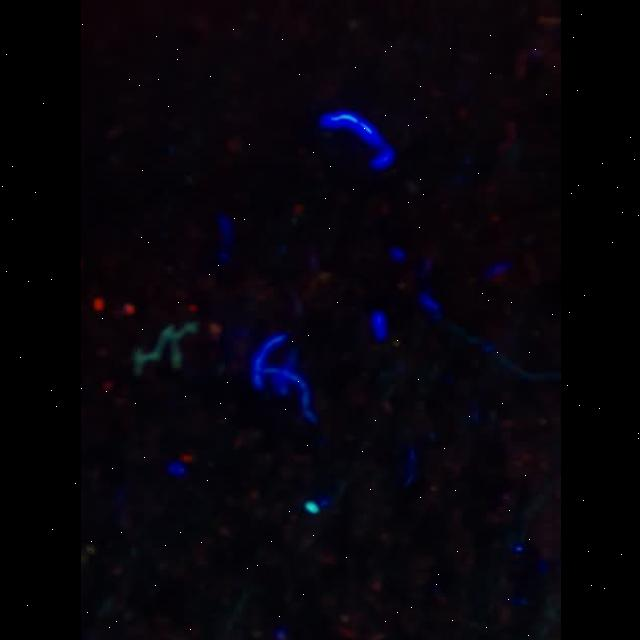Fibre: (132, 322, 197, 376)
